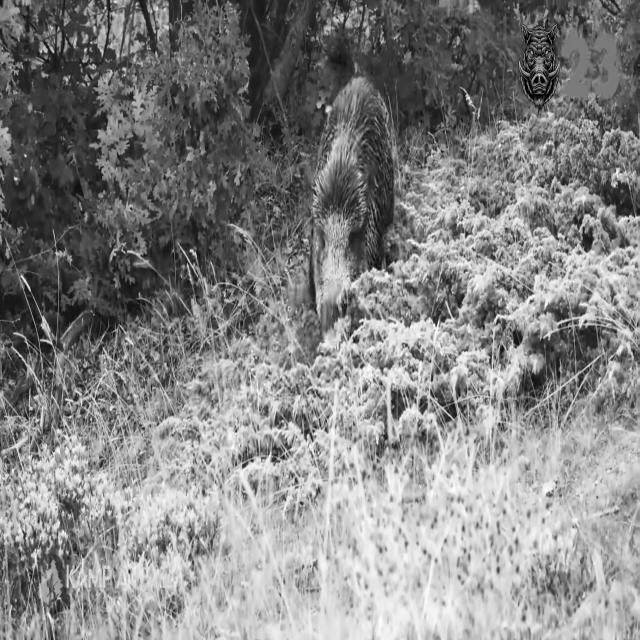boar: (309, 76, 395, 340)
